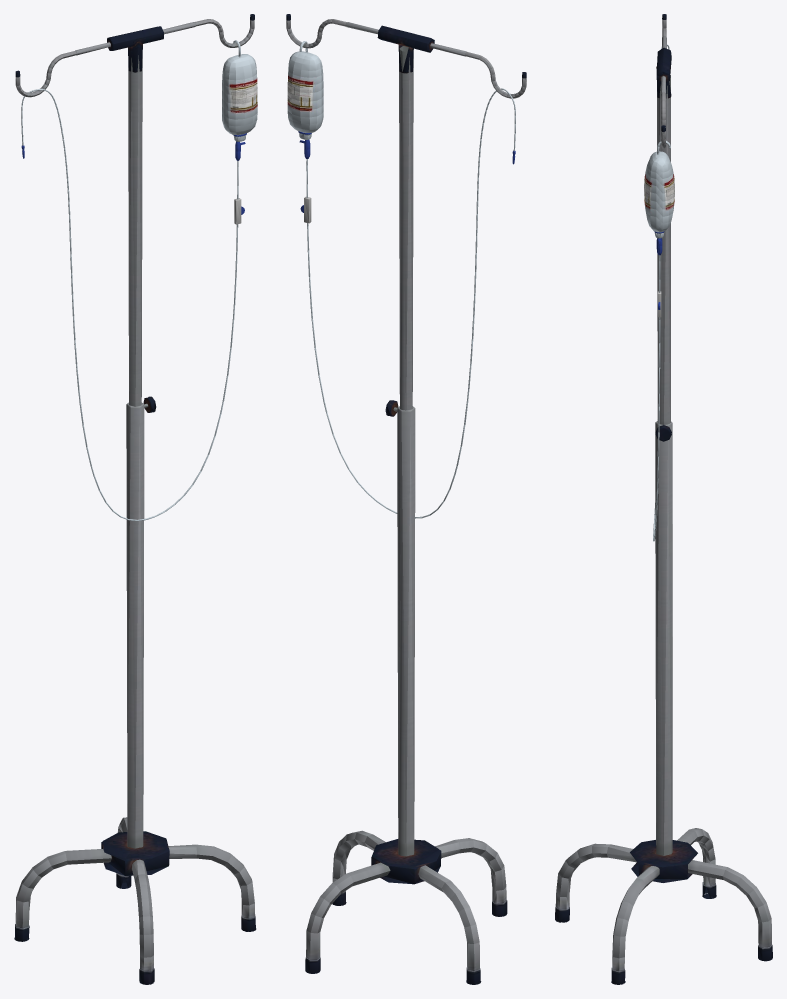
The model's file is chemo-treatment.glb.
The picture shows the model from 3 angles, left to right: view 1: azimuth 30°, elevation 25°; view 2: azimuth 150°, elevation 25°; view 3: azimuth 270°, elevation 25°; orthographic projection. The views are drawn at different scales.
Parts seen in each view (by area): view 1: ChemotherapyTreatment; view 2: ChemotherapyTreatment; view 3: ChemotherapyTreatment.
Boxes of the visible parts, x1=… form: ChemotherapyTreatment: x1=14, y1=14, x2=257, y2=984; ChemotherapyTreatment: x1=286, y1=14, x2=526, y2=984; ChemotherapyTreatment: x1=555, y1=14, x2=772, y2=984.
Size of the model in its own units: 0.5098 by 1.84 by 0.4139.
1 material, 1 textured.
